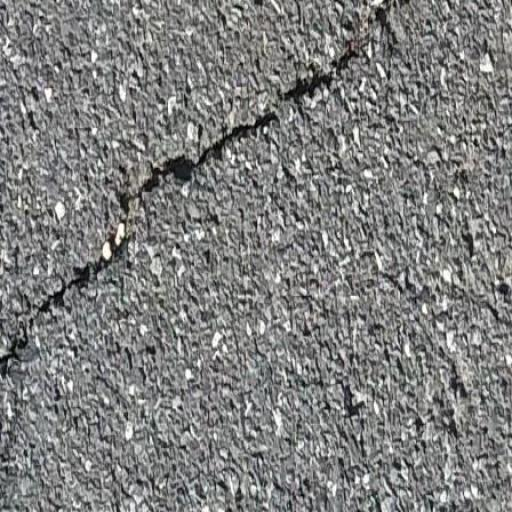spalling: (4, 7, 405, 396)
